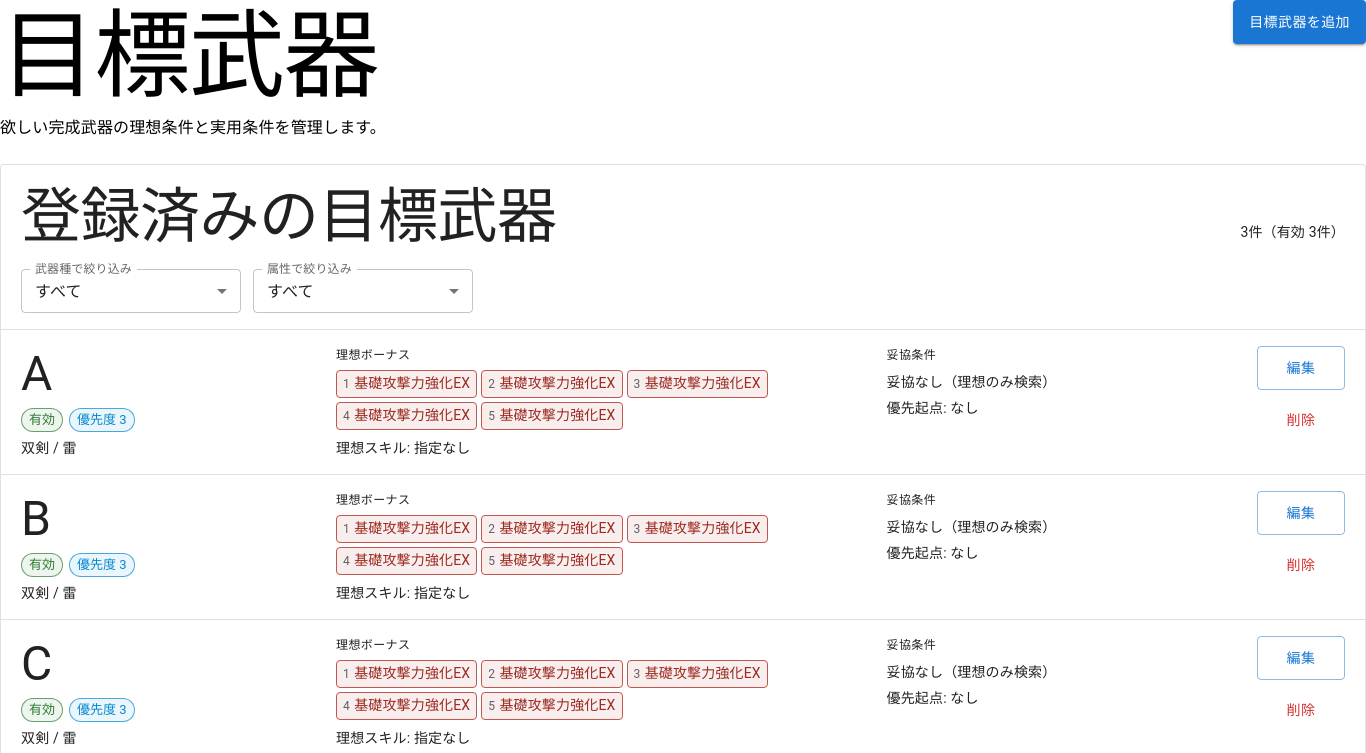
Test: TargetWeaponsPage list order › keeps an edited Target in place, appends a new one, and preserves order on delete
Click the 2nd button "編集".
click(1301, 513)  # box [1257,491,1345,535]
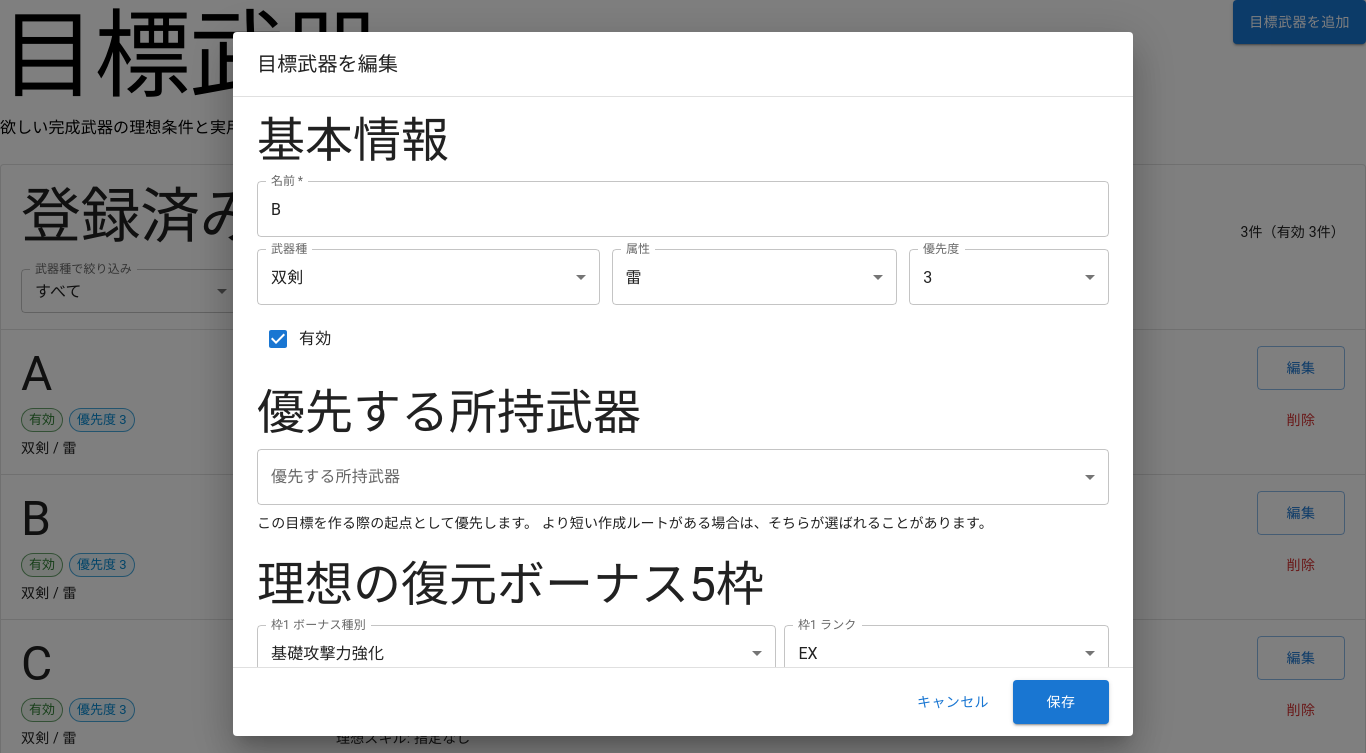
Replace the text in the field labelled "名前 *" with "B'" at (683, 209), box [257,181,1109,237]
Click the button "保存".
click(1061, 702)  # box [1013,680,1109,724]
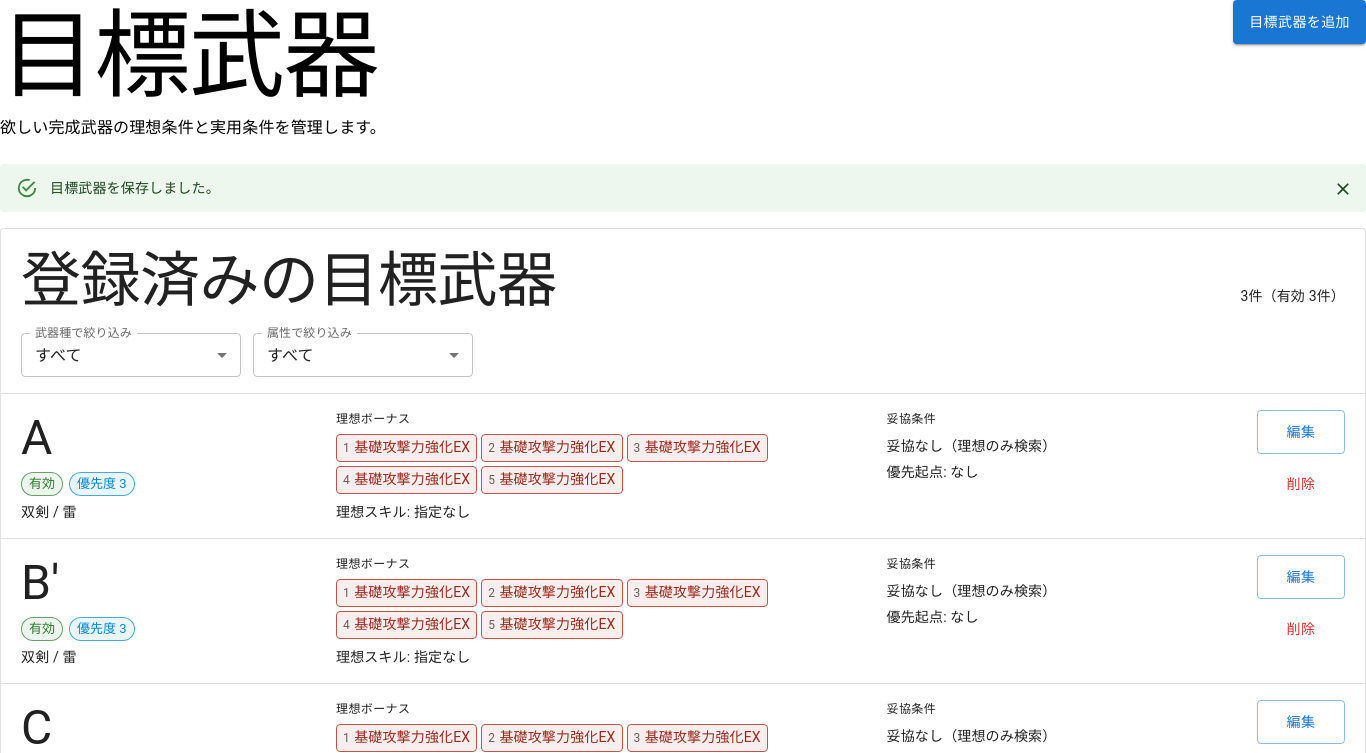
Expected: the dialog is gone
Click the button "目標武器を追加".
click(1300, 22)  # box [1233,0,1365,44]
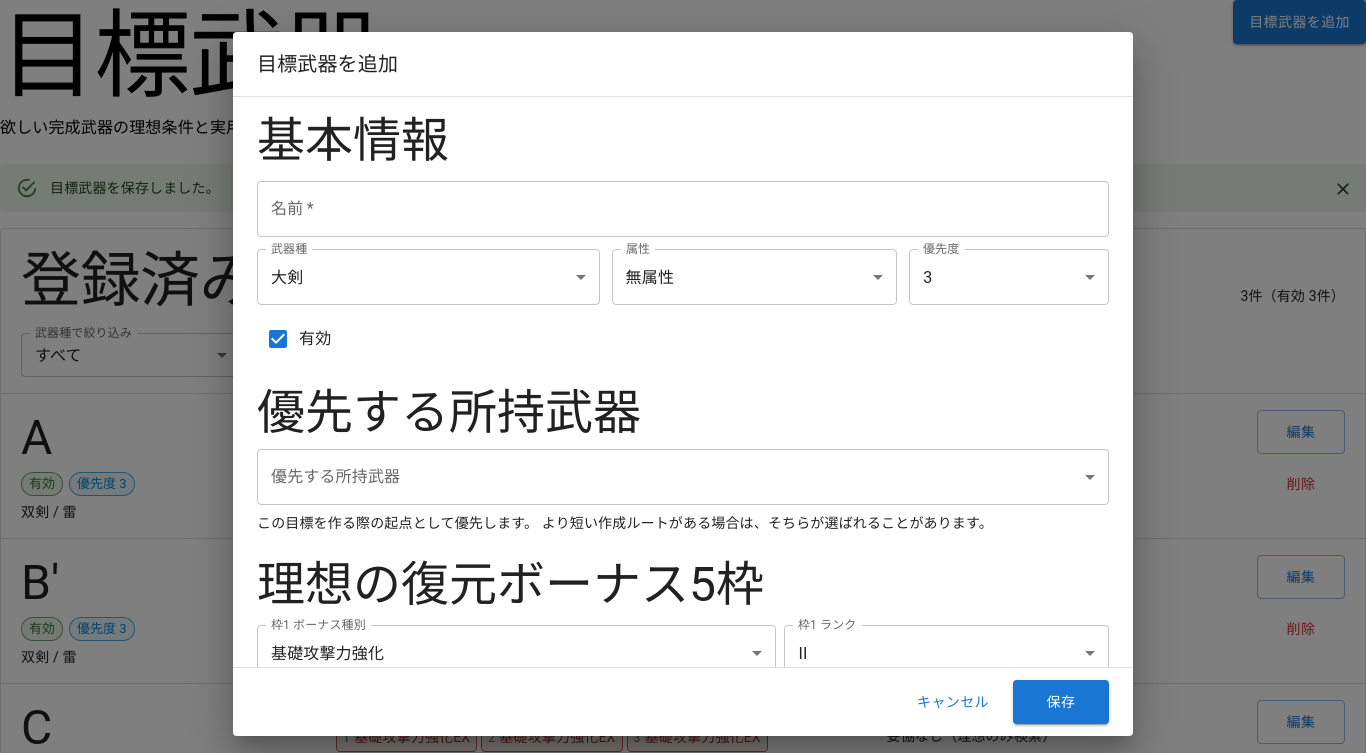
Type "D" into the field labelled "名前 *".
click(683, 209); type("D")  # box [257,181,1109,237]
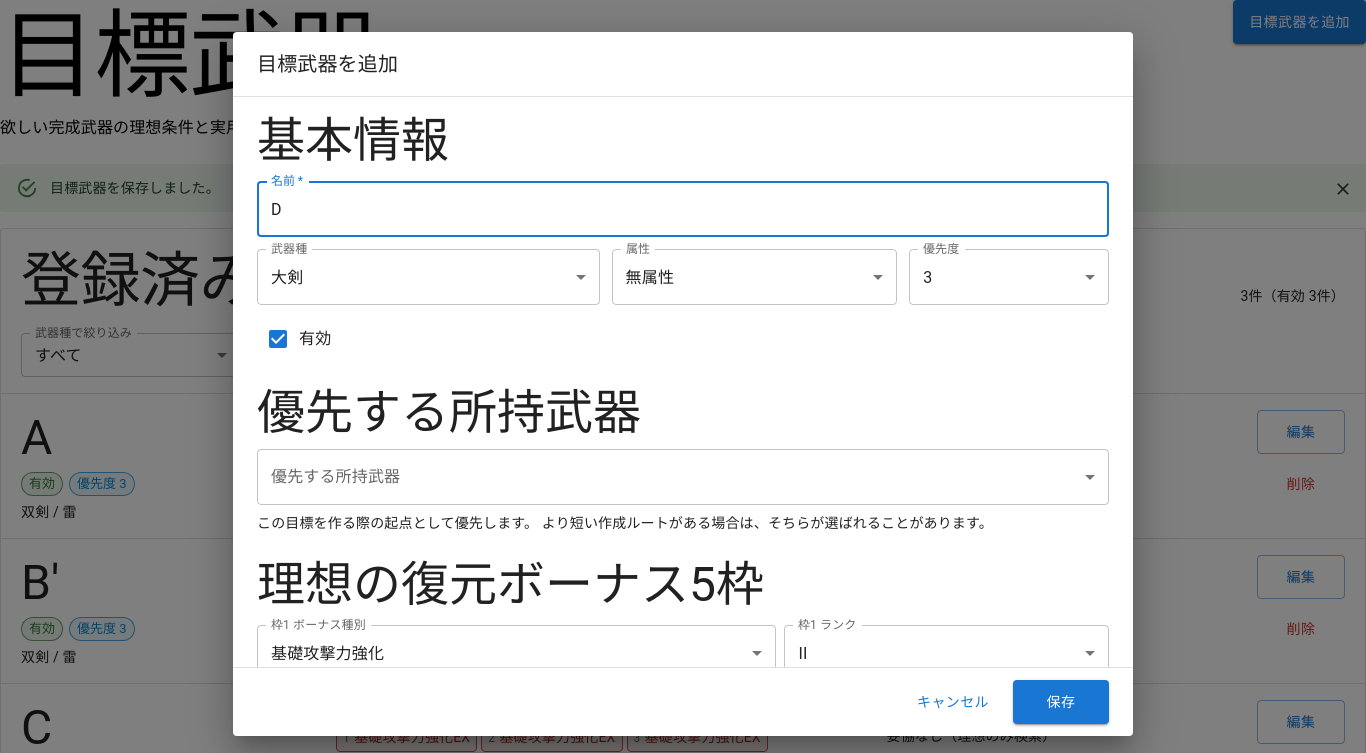
Click the button "保存".
click(1061, 702)  # box [1013,680,1109,724]
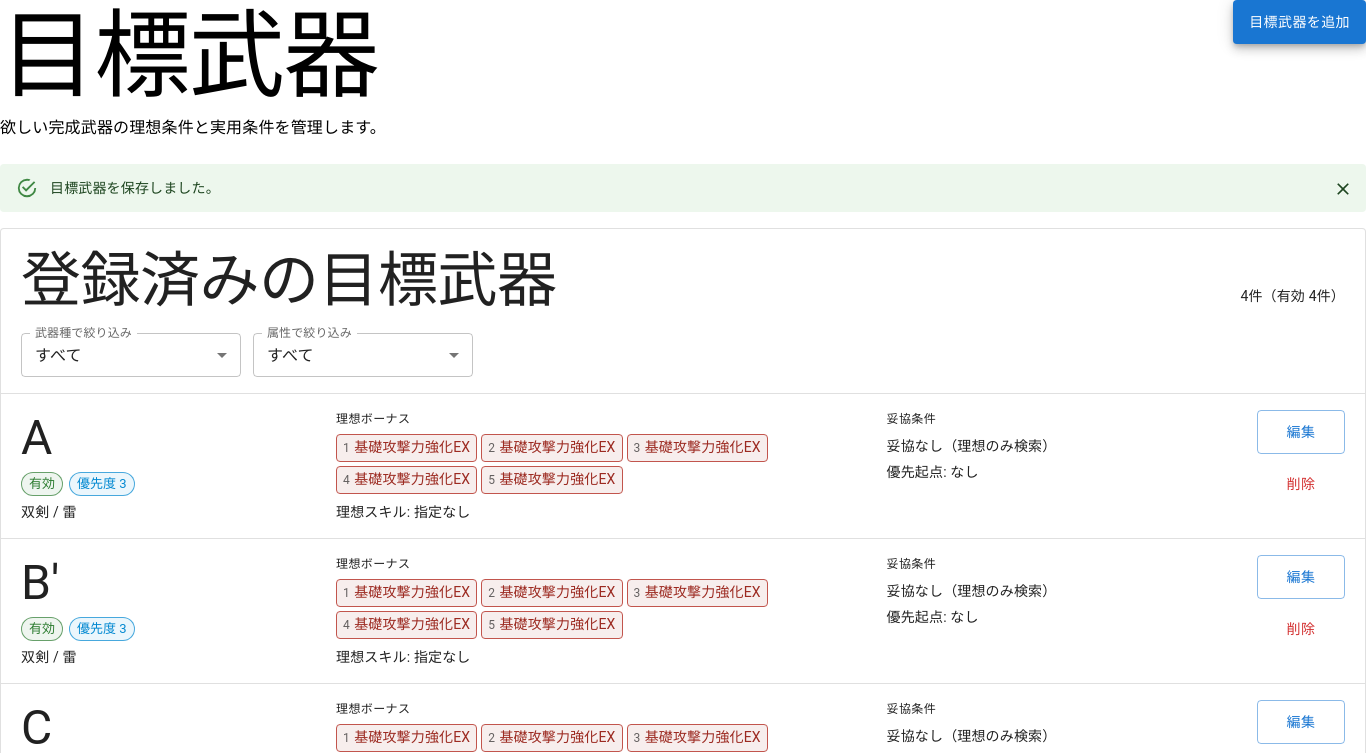
Expected: the dialog is gone
Click the button "削除" in the row of "B'".
click(1301, 629)  # box [1257,607,1345,651]
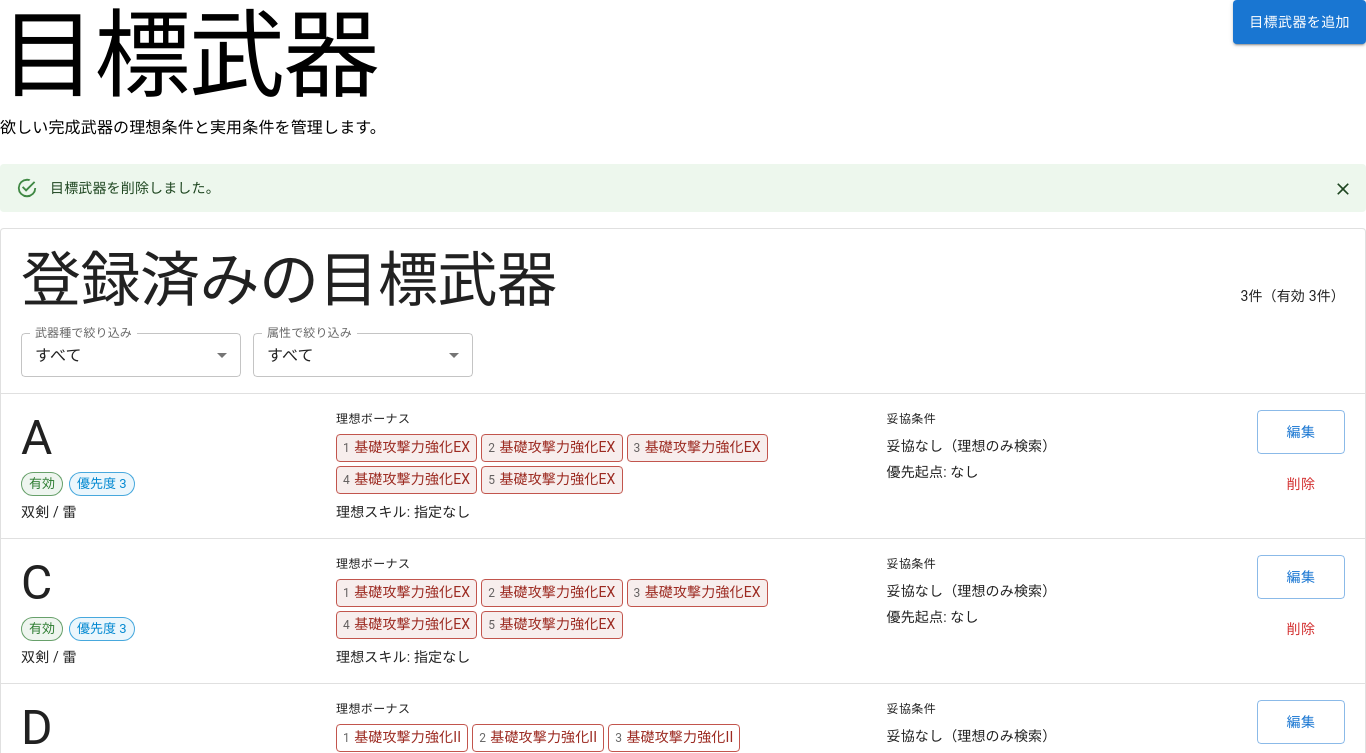
Expected: the heading "B'" is gone
